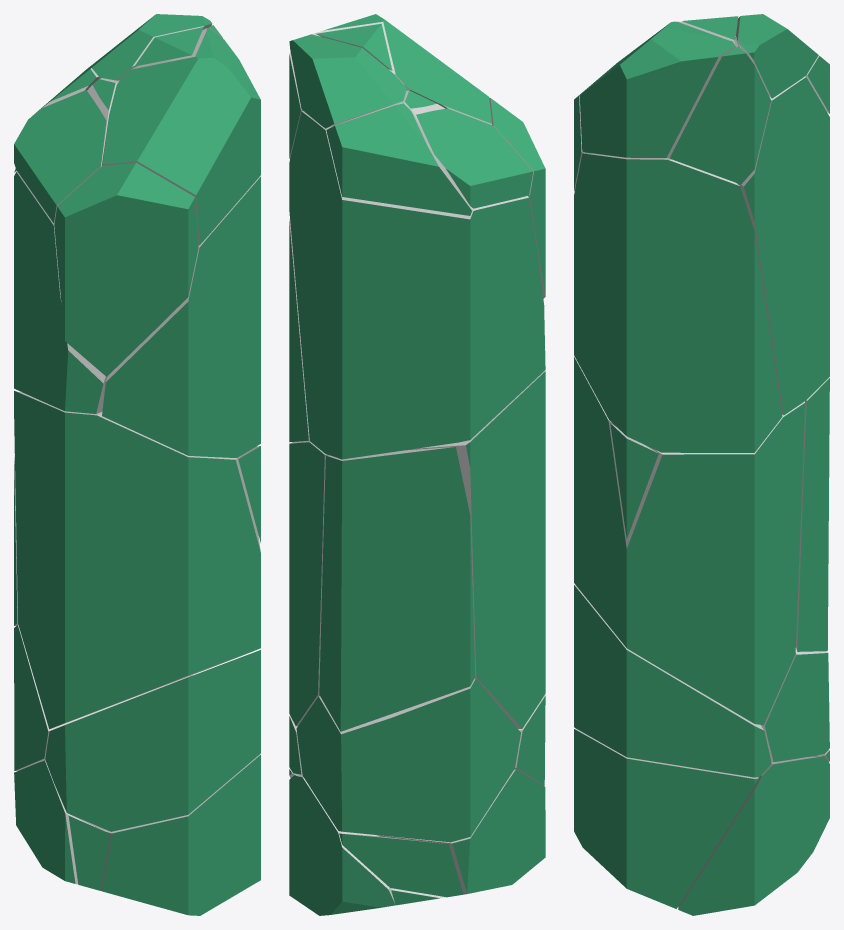
The model's file is hexB6.fbx.
The picture shows the model from 3 angles, left to right: view 1: azimuth 30°, elevation 25°; view 2: azimuth 150°, elevation 25°; view 3: azimuth 270°, elevation 25°; orthographic projection. The views are drawn at different scales.
Parts seen in each view (by area): view 1: Cr_Hex_CC_Cracked_M.002; view 2: Cr_Hex_CC_Cracked_M.002; view 3: Cr_Hex_CC_Cracked_M.002.
Part boxes in pixels (bbox=[...]): Cr_Hex_CC_Cracked_M.002: bbox=[14, 14, 260, 915]; Cr_Hex_CC_Cracked_M.002: bbox=[289, 14, 545, 915]; Cr_Hex_CC_Cracked_M.002: bbox=[574, 14, 829, 915].
Bounding box in the file's own units: 0.025 × 0.1027 × 0.0272.
